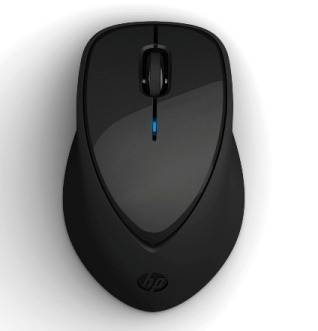mouse: (55, 12, 249, 319)
